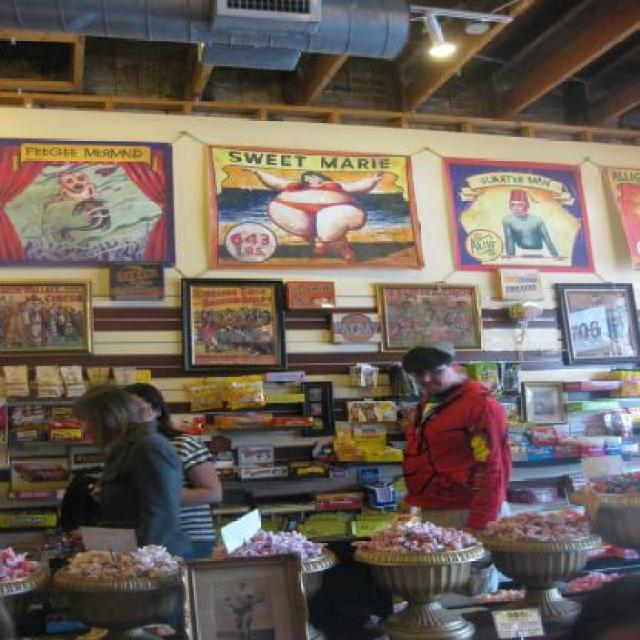Person: (89, 383, 226, 639), (66, 383, 197, 639), (400, 338, 511, 540), (241, 168, 385, 264), (500, 188, 566, 261), (0, 295, 85, 348), (198, 320, 227, 354)
